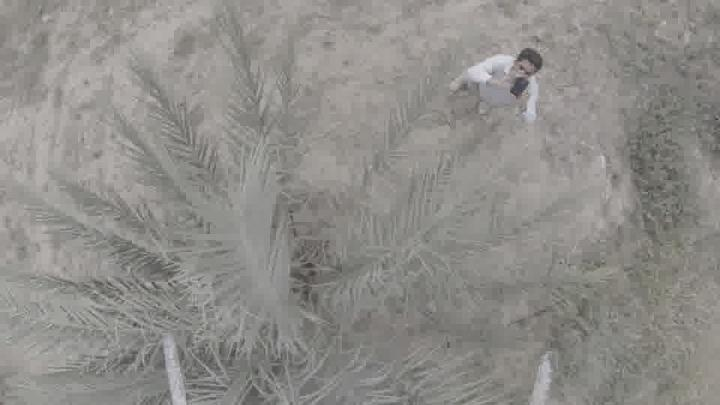Date-Palm-Crown: (48, 155, 468, 404)
